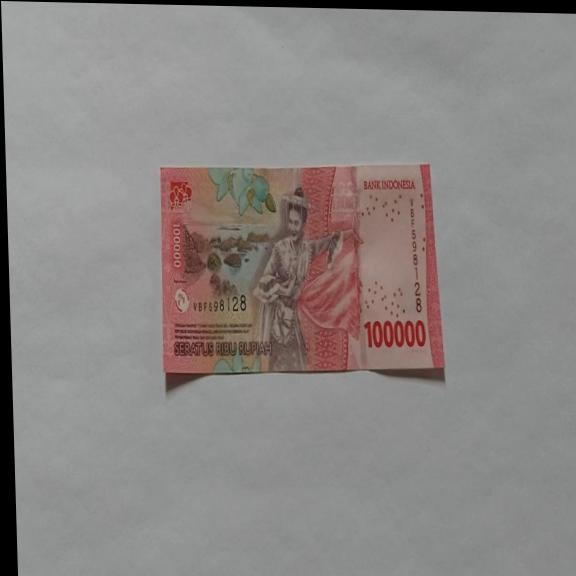Kertas: (156, 158, 445, 388), (363, 316, 426, 352)
